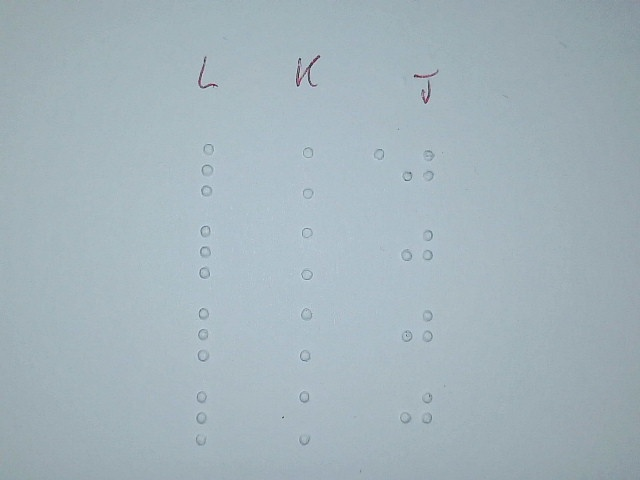J: (400, 141, 438, 198), (399, 220, 437, 277), (399, 304, 437, 361), (397, 384, 435, 441)
K: (292, 304, 335, 364), (295, 225, 338, 285), (296, 143, 339, 203), (291, 386, 334, 446)
L: (194, 141, 232, 198), (192, 223, 230, 280), (193, 305, 231, 362), (190, 389, 228, 446)
